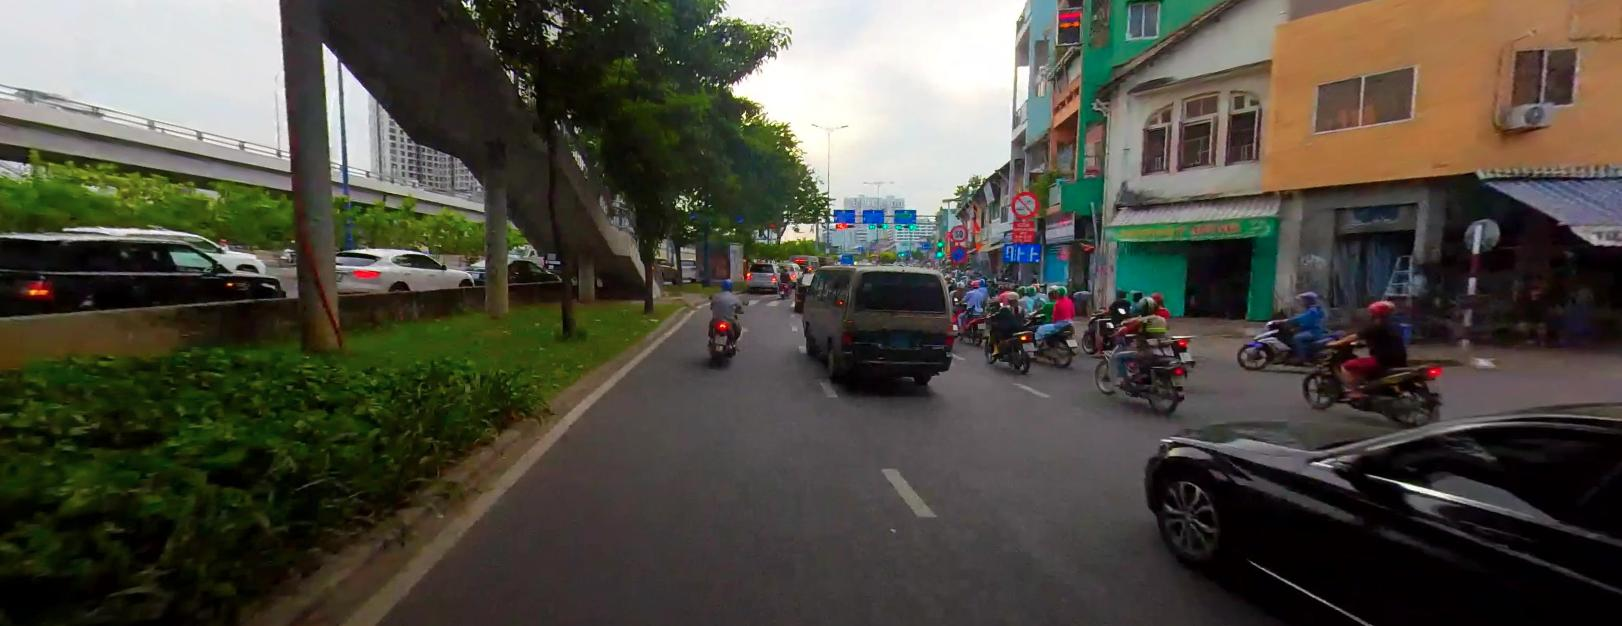Cam con lai: (1011, 190, 1039, 218)
Cam dung va do: (949, 244, 967, 261)
Gioi han toc do: (951, 223, 968, 240)
